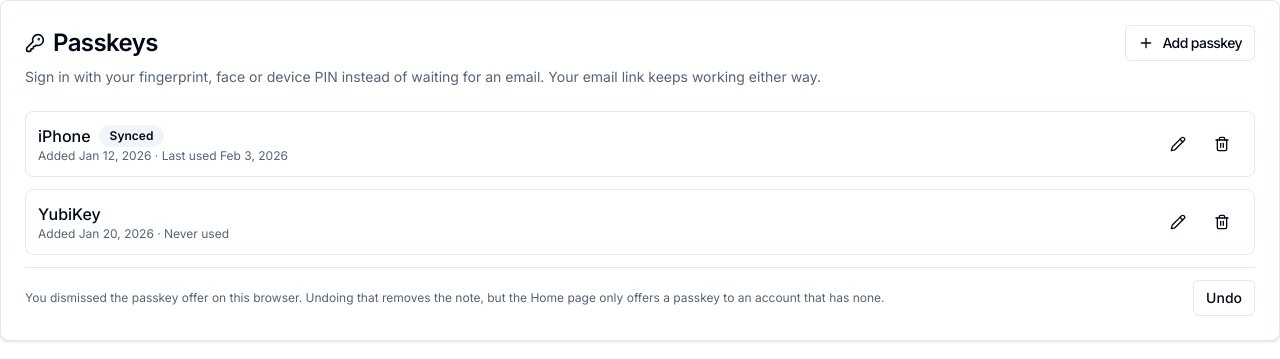
Test: PasskeysCard › the Home page offer › promises only the removal for an account that already has one
Expected: the text "iPhone" is shown, [38,124,91,148]
Expected: the text "only offers a passkey to an account that has none" is shown, [306,290,884,305]
Click the button "Undo". click: x=1224, y=298
box: [1193,280,1255,316]
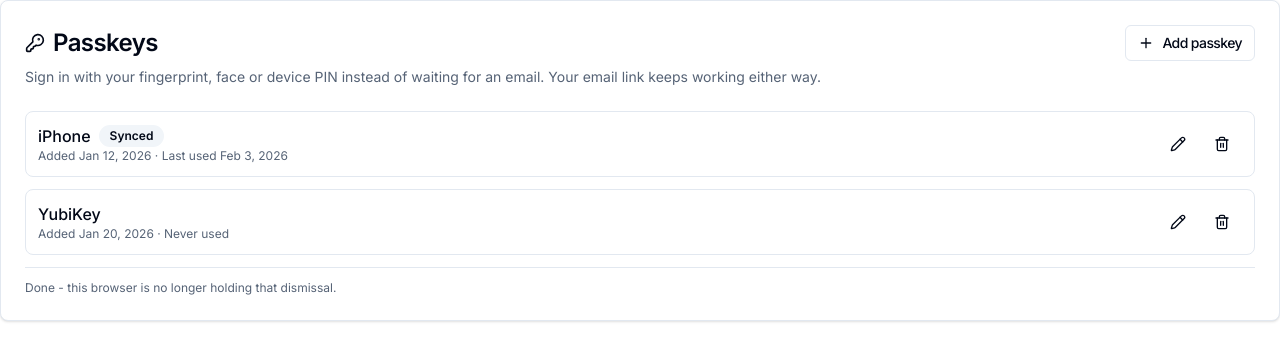
Now the text "Done - this browser is no longer holding that dismissal." is shown, box [25,267,1255,296]
